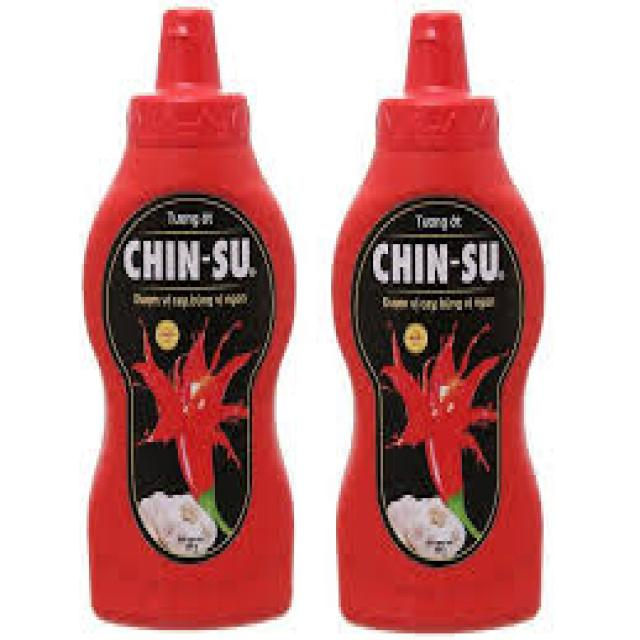tuong ot chinsu: (82, 7, 301, 631), (333, 10, 544, 631)
